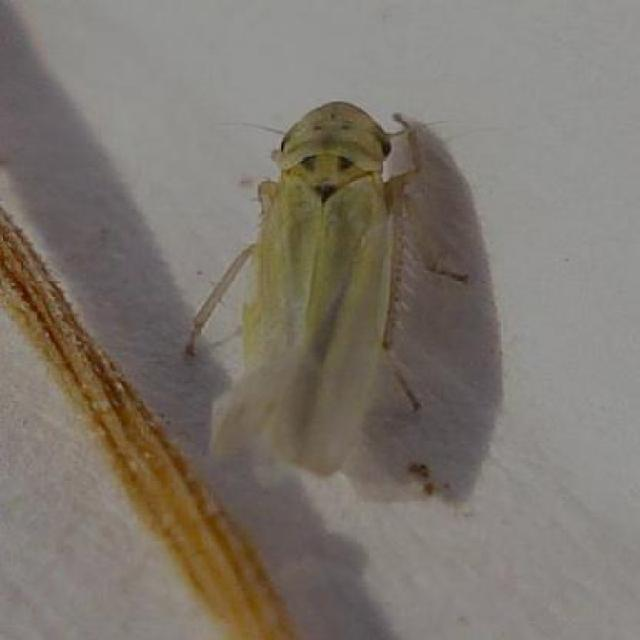green-leafhopper: (210, 66, 424, 474)
